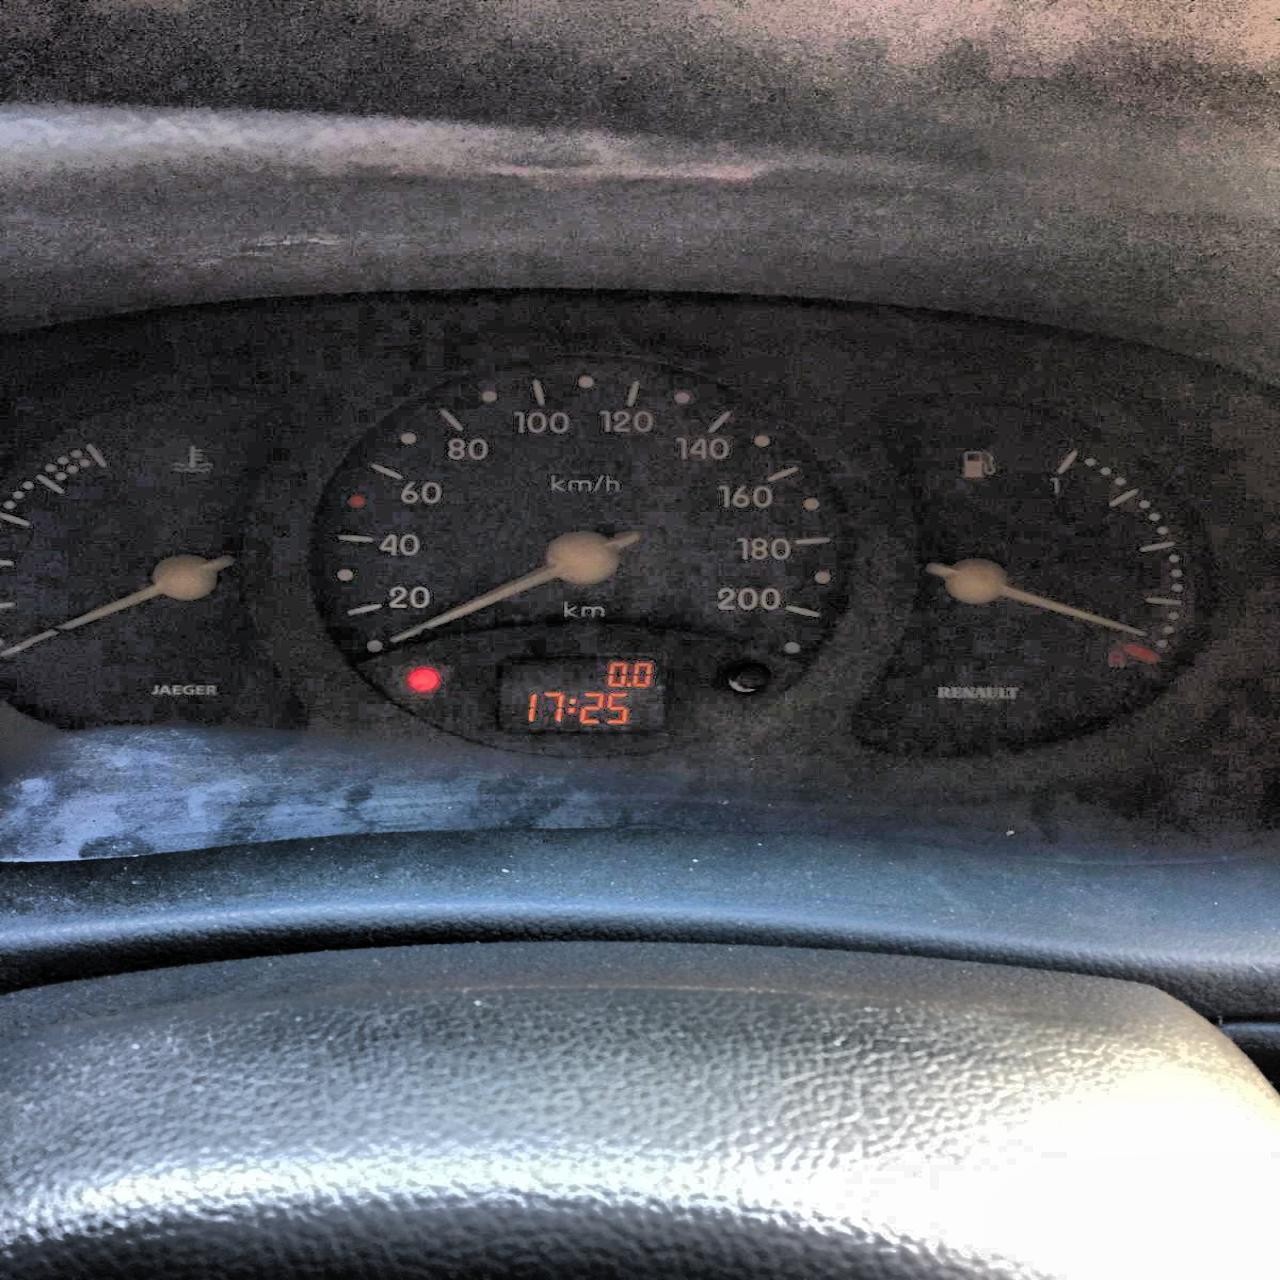-: (625, 682, 631, 687)
0: (606, 661, 626, 687), (632, 661, 652, 687)
1: (526, 693, 536, 722)
2: (578, 692, 602, 723)
5: (605, 692, 627, 723)
7: (544, 692, 563, 722)
X: (566, 697, 576, 713)
odometer: (491, 652, 673, 737)
